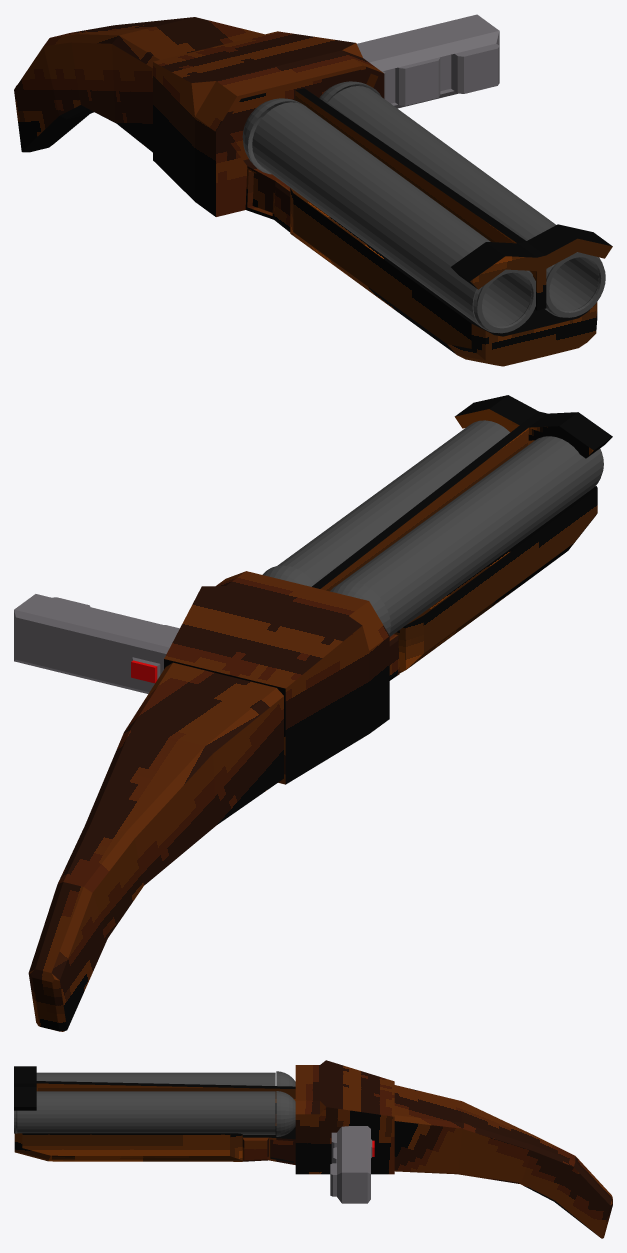
Rendered from Shotgun squared.fbx.
The picture shows the model from 3 angles, top to bottom: view 1: azimuth 30°, elevation 25°; view 2: azimuth 150°, elevation 25°; view 3: azimuth 270°, elevation 25°; orthographic projection. The views are drawn at different scales.
Visible parts, largest first — view 1: Cube.004, Cylinder, Cube.002, Cube.001, Cube.003; view 2: Cube.004, Cylinder, Cube.002, Cube.001; view 3: Cube.004, Cylinder, Cube.002, Cube.001, Cube.003.
Boxes of the visible parts, x1=… form: Cube.004: x1=14, y1=17, x2=384, y2=216; Cylinder: x1=242, y1=81, x2=605, y2=333; Cube.002: x1=290, y1=88, x2=612, y2=366; Cube.001: x1=357, y1=14, x2=499, y2=108; Cube.003: x1=245, y1=164, x2=290, y2=232; Cube.004: x1=28, y1=571, x2=389, y2=1031; Cylinder: x1=262, y1=420, x2=603, y2=636; Cube.002: x1=312, y1=395, x2=612, y2=672; Cube.001: x1=14, y1=594, x2=179, y2=693; Cube.004: x1=295, y1=1060, x2=612, y2=1238; Cylinder: x1=14, y1=1071, x2=295, y2=1136; Cube.002: x1=14, y1=1066, x2=295, y2=1161; Cube.001: x1=330, y1=1126, x2=372, y2=1203; Cube.003: x1=242, y1=1114, x2=295, y2=1164.
Size of the model in its own units: 1277 by 1024 by 3514.
